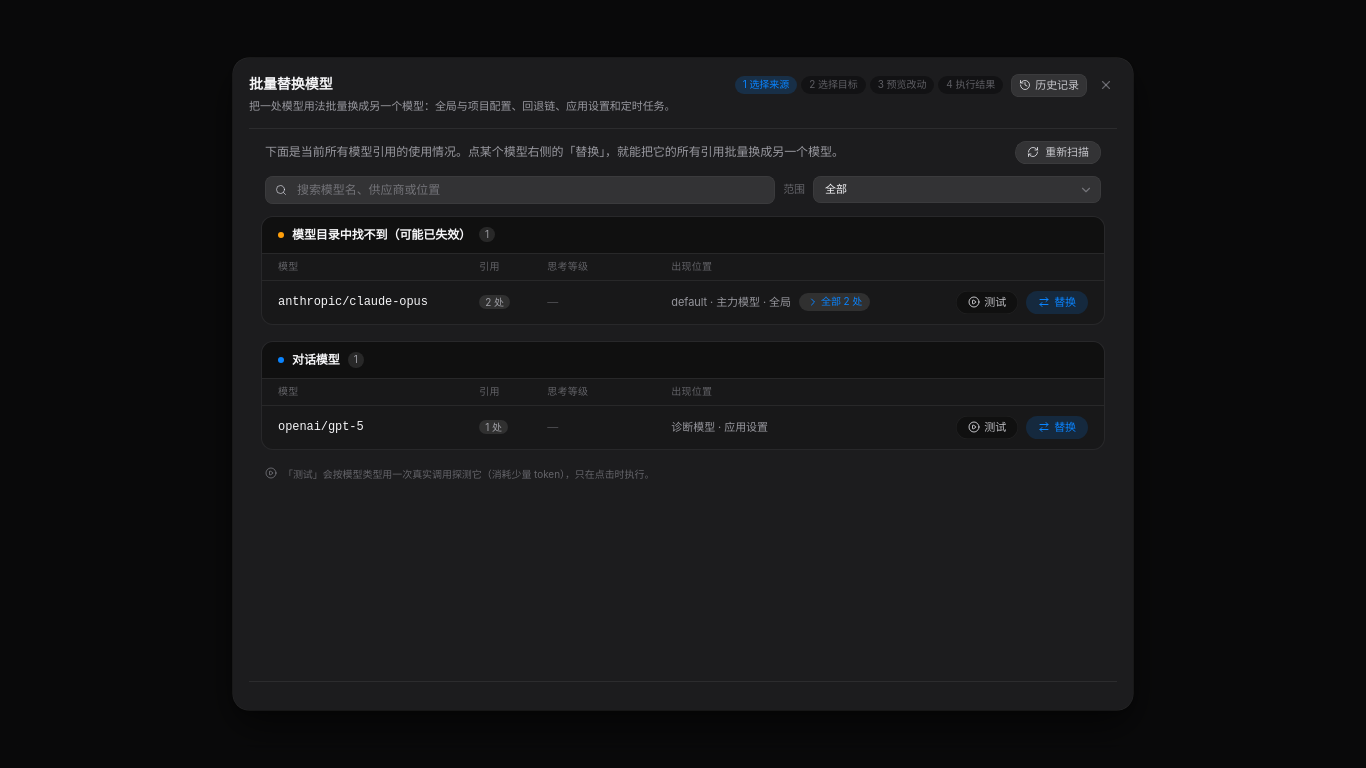
it: pick target step › lists every place the model to replace appears
Expected: the text "模型目录中找不到（可能已失效） 1" is shown, x1=262 y1=217 x2=1104 y2=253
Click the button titled "把这个模型的所有引用换成另一个模型" in the row of "default · 主力模型 · 全局": (1057, 302) x1=1026 y1=291 x2=1088 y2=314
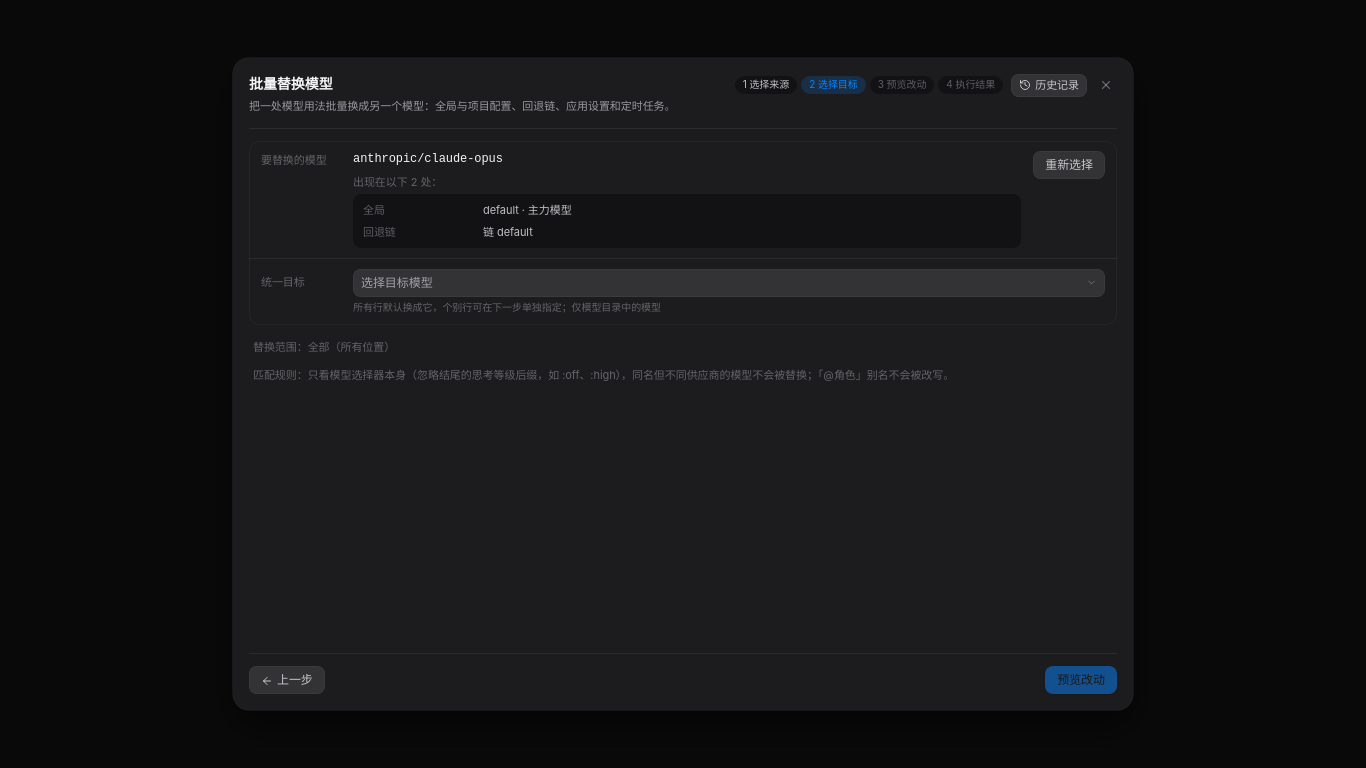
Expected: the button "预览改动" is shown, x1=1045 y1=666 x2=1117 y2=694
